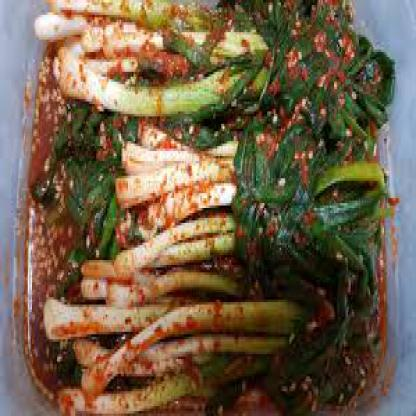green onion Kimchi: (39, 3, 384, 408)
